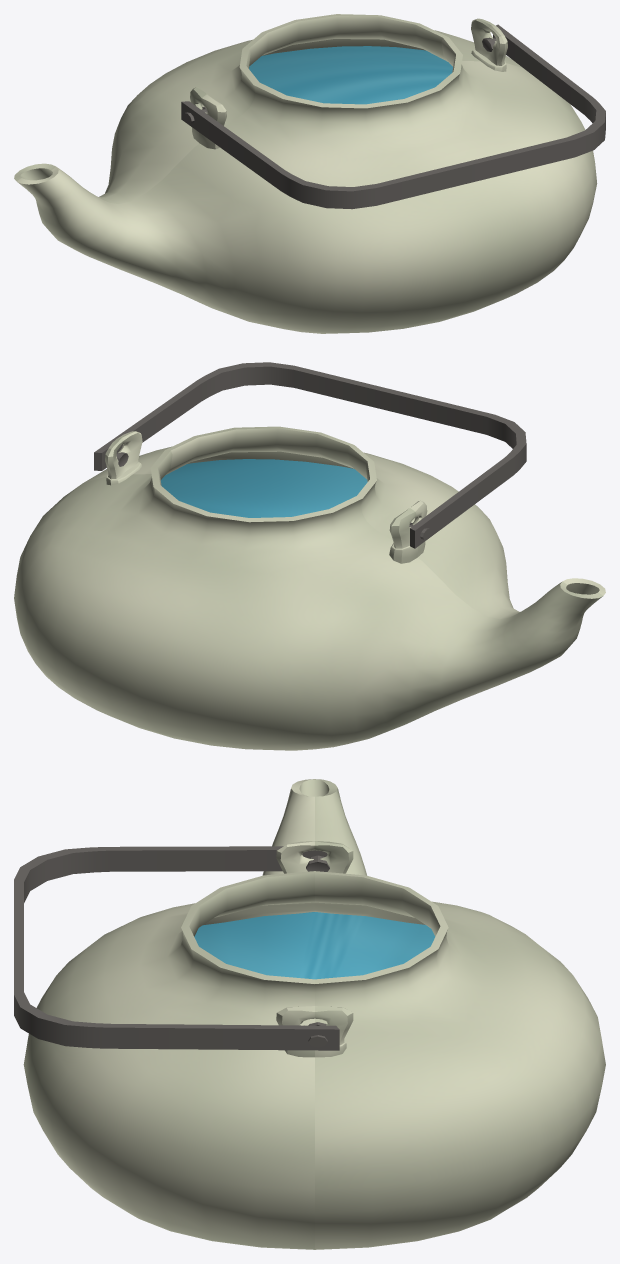
The model's file is чайник (2).fbx.
3 views of the same model, one above another, from view 1: azimuth 30°, elevation 25°; view 2: azimuth 150°, elevation 25°; view 3: azimuth 270°, elevation 25° (orthographic). The views are drawn at different scales.
Parts seen in each view (by area): view 1: Chainik, RuchkaChainik, Chainik_Water; view 2: Chainik, RuchkaChainik, Chainik_Water; view 3: Chainik, RuchkaChainik, Chainik_Water.
Boxes of the visible parts, x1,y1,x2,y2 form: Chainik: (14,14,597,333); RuchkaChainik: (181,24,605,209); Chainik_Water: (249,46,452,104); Chainik: (14,426,605,750); RuchkaChainik: (94,362,526,548); Chainik_Water: (161,459,367,517); Chainik: (23,779,605,1249); RuchkaChainik: (14,846,339,1050); Chainik_Water: (194,912,435,979).
Size of the model in its own units: 0.288 by 0.114 by 0.2283.
Materials: 3 (2 with a texture image).
